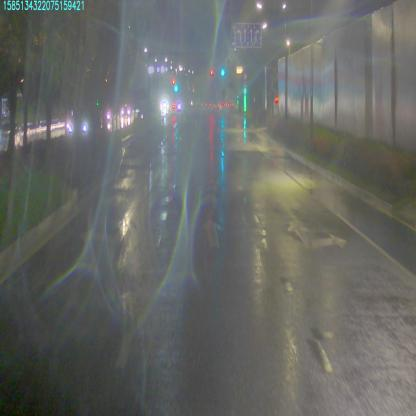traffic-light: (219, 65, 224, 76), (209, 66, 214, 75)
